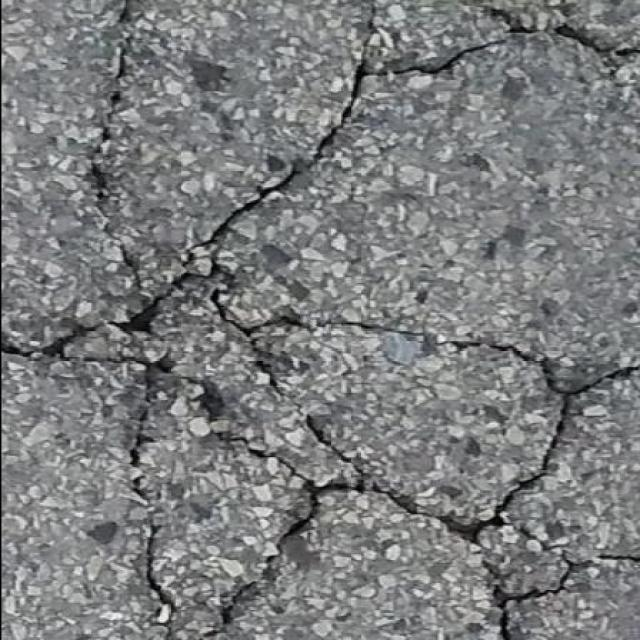Crack: (163, 270, 639, 640), (117, 355, 228, 619), (186, 122, 339, 260), (84, 0, 144, 298), (262, 315, 518, 353), (554, 28, 640, 102), (394, 41, 505, 74), (343, 30, 381, 104), (1, 329, 85, 356), (111, 302, 164, 342), (468, 0, 529, 34), (218, 432, 288, 461), (154, 622, 166, 640), (553, 0, 564, 12)
